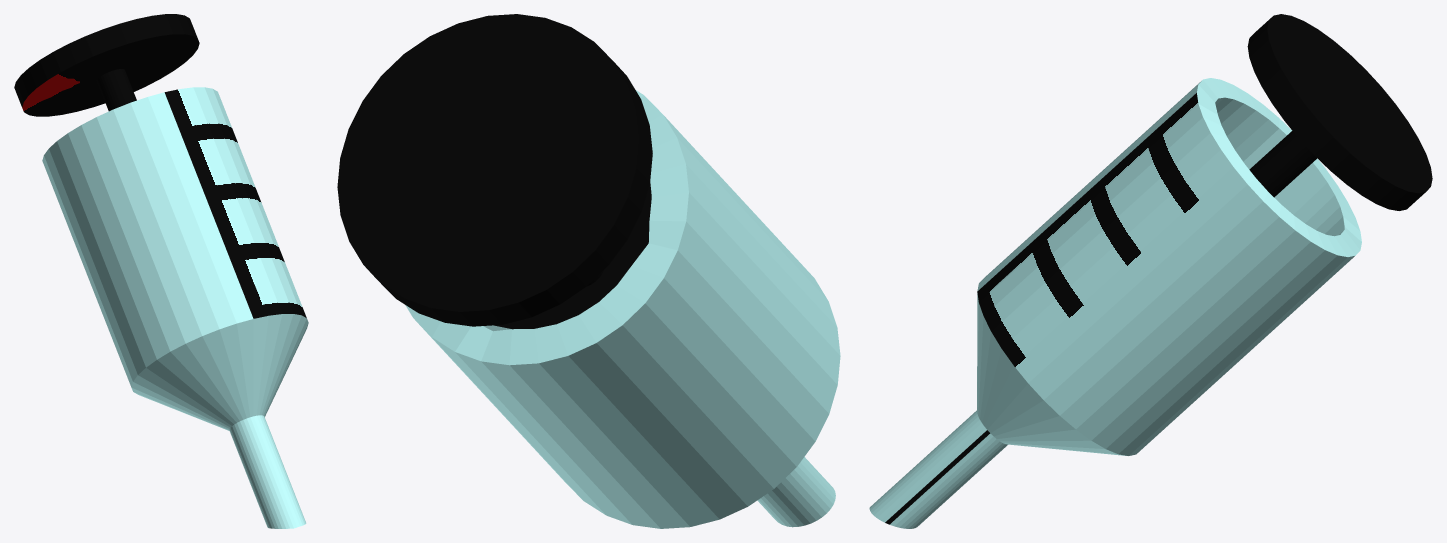
Rendered from Antibody.fbx.
3 views of the same model, side by side, from view 1: azimuth 30°, elevation 25°; view 2: azimuth 150°, elevation 25°; view 3: azimuth 270°, elevation 25° (orthographic). The views are drawn at different scales.
Visible parts, largest first — view 1: Cylinder.001; view 2: Cylinder.001; view 3: Cylinder.001.
Boxes of the visible parts, left/top/right/bottom form: Cylinder.001: left=14, top=14, right=308, bottom=528; Cylinder.001: left=337, top=14, right=840, bottom=528; Cylinder.001: left=869, top=14, right=1432, bottom=528.
Bounding box in the file's own units: 200 × 467 × 481.
Materials: 1 (1 with a texture image).
